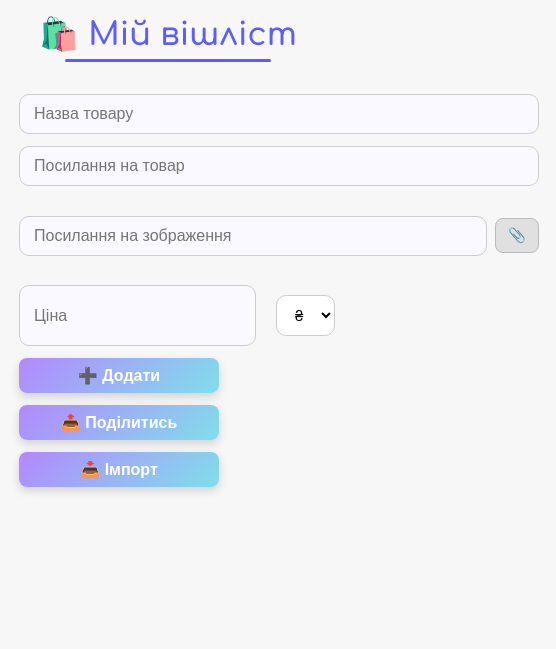
Test: імпортує список з коректного JSON
Click the button "📥 Імпорт" at (119, 470), box 19,452 -> 219,487
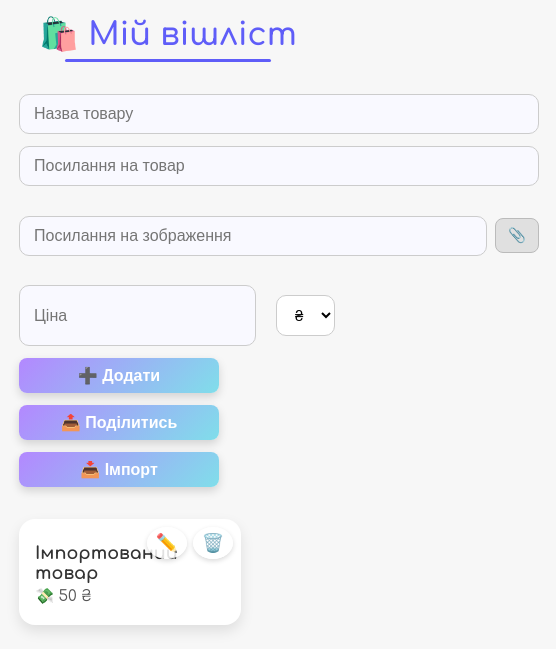
Expected: the heading "Імпортований товар" is shown, 35,543 -> 178,583
